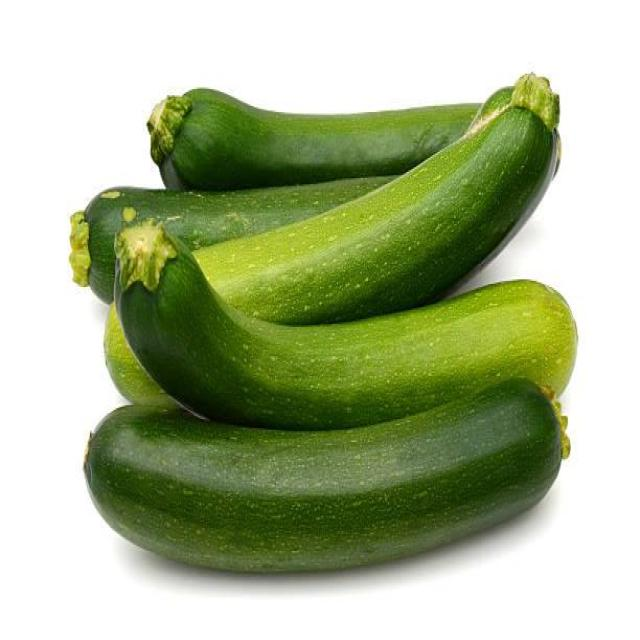Courgette: (115, 221, 576, 425), (192, 79, 558, 324), (85, 382, 559, 571), (70, 178, 393, 296), (146, 87, 479, 190)
